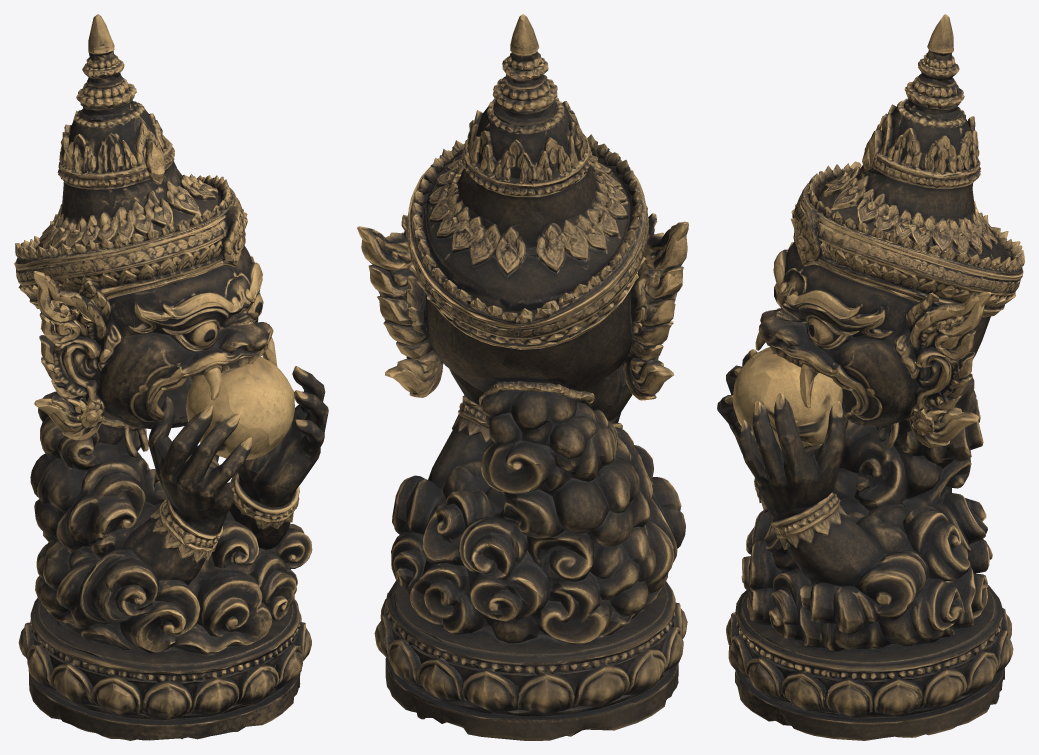
Rendered from remeshed-rahu.glb.
The picture shows the model from 3 angles, left to right: view 1: azimuth 30°, elevation 25°; view 2: azimuth 150°, elevation 25°; view 3: azimuth 270°, elevation 25°; orthographic projection. The views are drawn at different scales.
Parts seen in each view (by area): view 1: output_unwrapped; view 2: output_unwrapped; view 3: output_unwrapped.
Part boxes in pixels (x1,y1,x2,y2): output_unwrapped: (14, 14, 328, 740); output_unwrapped: (357, 14, 688, 740); output_unwrapped: (717, 14, 1024, 740).
Bounding box in the file's own units: 0.8117 × 1.9 × 0.8102.
1 material, 1 textured.
